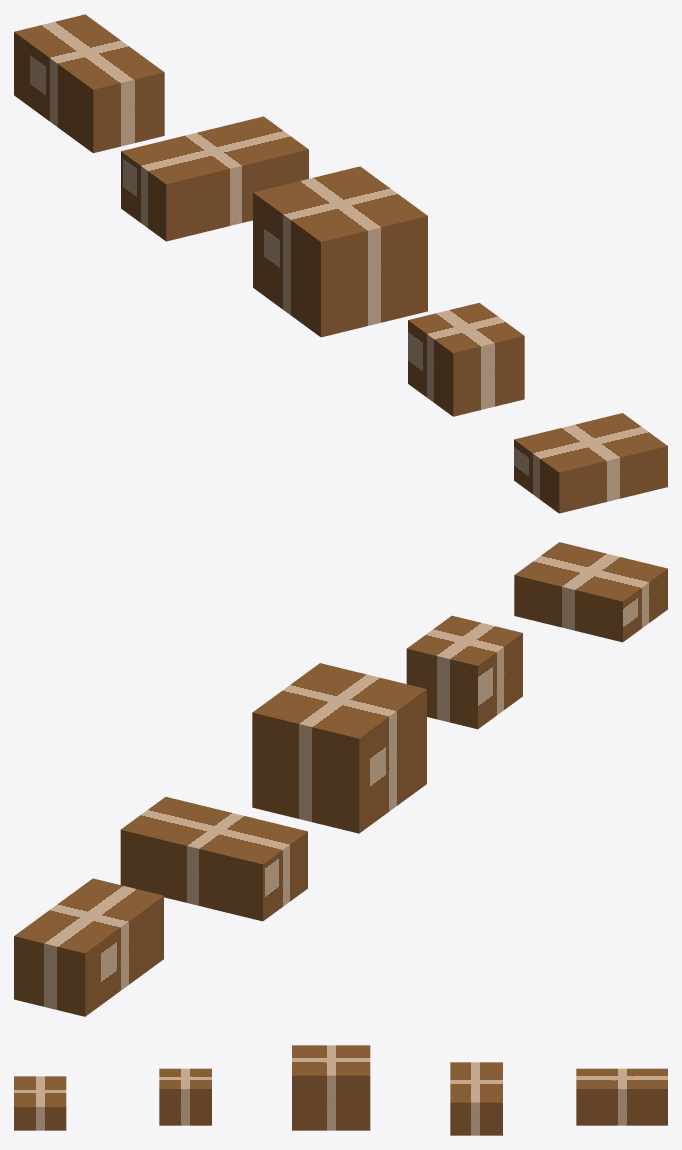
Rendered from Boxes.dae.
3 views of the same model, one above another, from view 1: azimuth 30°, elevation 25°; view 2: azimuth 150°, elevation 25°; view 3: azimuth 270°, elevation 25° (orthographic). The views are drawn at different scales.
Visible parts, largest first — view 1: Cube.002, Cube.003, Cube.004, Cube, Cube.001; view 2: Cube.002, Cube.003, Cube.004, Cube, Cube.001; view 3: Cube.002, Cube.004, Cube.003, Cube.001, Cube.
Boxes of the visible parts, box(x1,y1,x2,y2) form: Cube.002: box(253, 166, 427, 337); Cube.003: box(121, 116, 308, 241); Cube.004: box(14, 14, 164, 153); Cube: box(514, 413, 667, 513); Cube.001: box(408, 303, 524, 416); Cube.002: box(252, 663, 426, 833); Cube.003: box(120, 797, 307, 921); Cube.004: box(14, 878, 163, 1016); Cube: box(514, 542, 667, 642); Cube.001: box(406, 615, 522, 729); Cube.002: box(292, 1045, 370, 1130); Cube.004: box(576, 1068, 667, 1125); Cube.003: box(450, 1062, 502, 1135); Cube.001: box(159, 1068, 211, 1125); Cube: box(14, 1076, 66, 1130).
Bounding box in the file's own units: 0.328 × 2.25 × 0.2093.
1 material, 1 textured.
